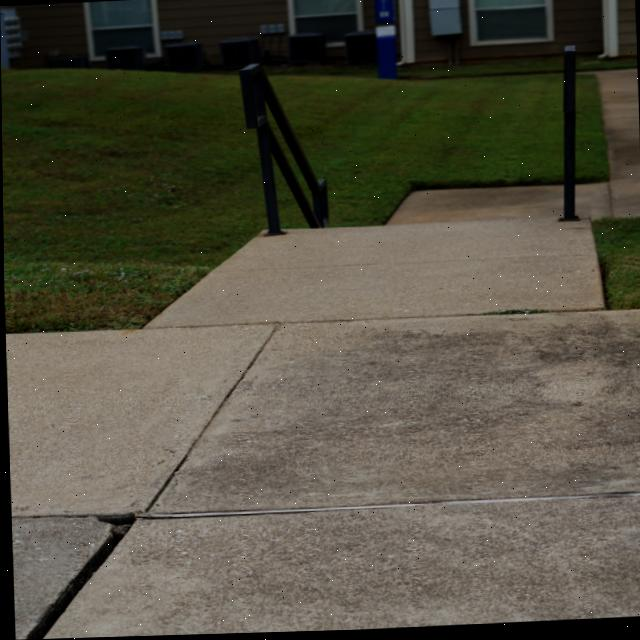Obstacle: (260, 71, 327, 229), (239, 65, 280, 237), (267, 127, 318, 229), (558, 49, 578, 225), (291, 149, 328, 229), (277, 121, 291, 149)
Sidewalk: (147, 314, 640, 514), (40, 498, 640, 639), (4, 327, 273, 517), (145, 222, 601, 329), (9, 517, 127, 640), (385, 188, 562, 227), (595, 73, 640, 220), (575, 186, 610, 221)
